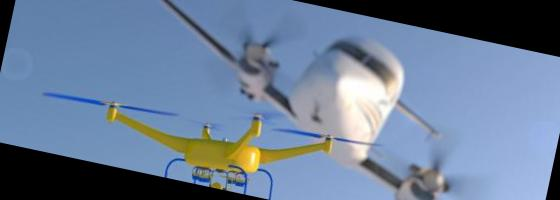drone: (16, 49, 375, 200)
